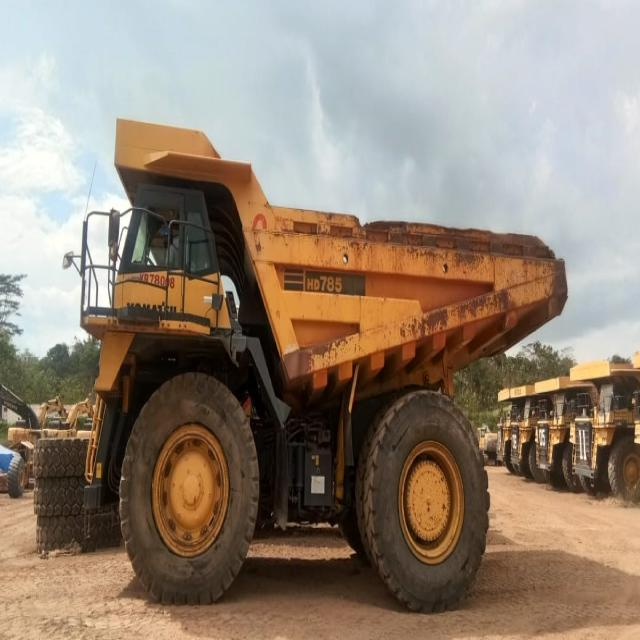dump_truck: (72, 100, 569, 621), (569, 347, 637, 514)
